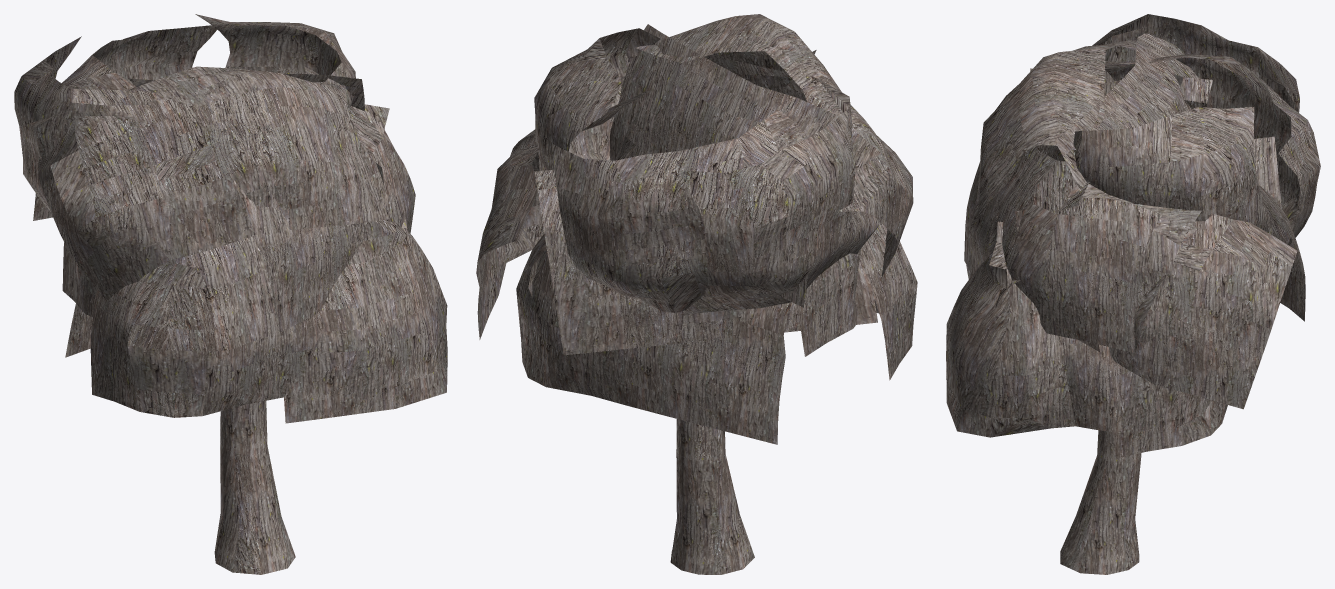
Rendered from Tree-CorrectedMesh.fbx.
3 views of the same model, side by side, from view 1: azimuth 30°, elevation 25°; view 2: azimuth 150°, elevation 25°; view 3: azimuth 270°, elevation 25° (orthographic). The views are drawn at different scales.
Visible parts, largest first — view 1: Tree_1; view 2: Tree_1; view 3: Tree_1.
Boxes of the visible parts, <box> form: Tree_1: <box>14,14,447,574</box>; Tree_1: <box>476,14,917,574</box>; Tree_1: <box>946,14,1320,574</box>.
Size of the model in its own units: 387 by 506 by 352.
Materials: 1 (1 with a texture image).
